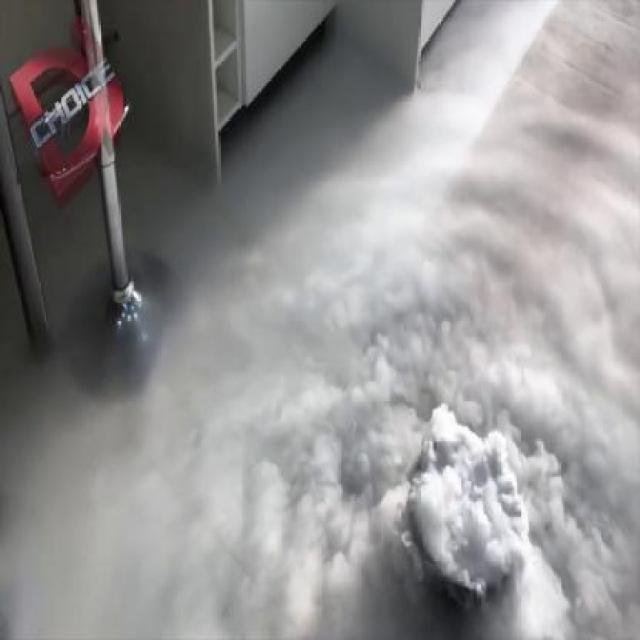smoke: (367, 348, 618, 637)
